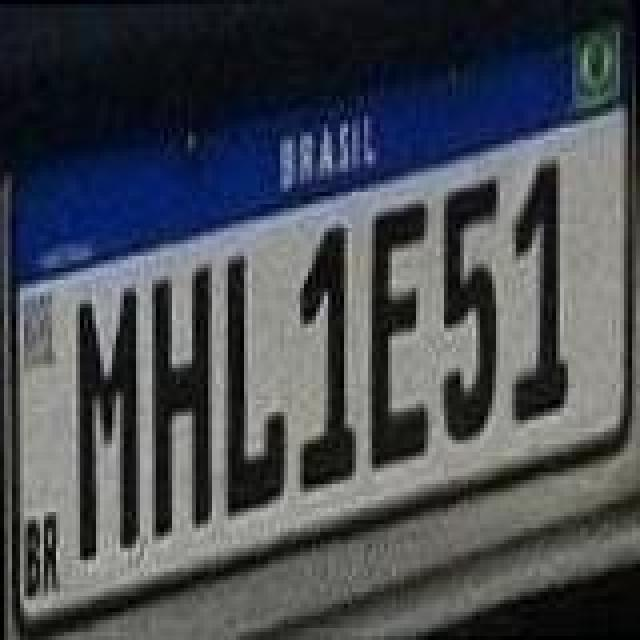1: (298, 224, 358, 496), (506, 156, 566, 428)
5: (438, 174, 506, 446)
E: (366, 198, 434, 470)
H: (148, 264, 216, 540)
L: (220, 254, 288, 518)
M: (72, 290, 140, 566)
